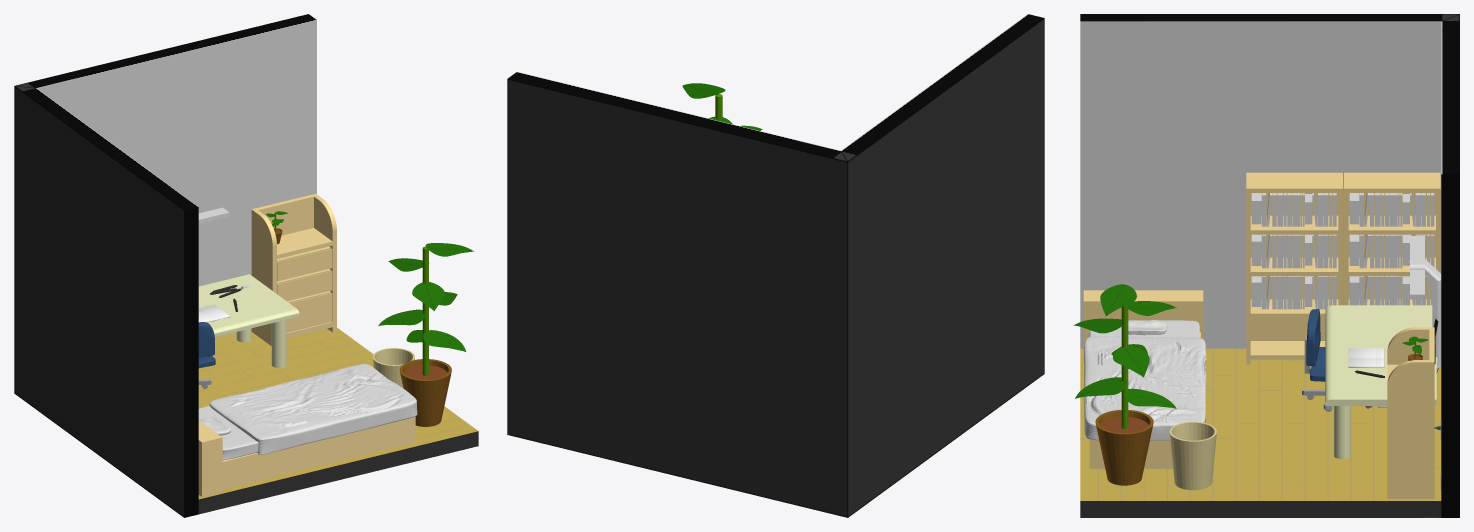
Rendered from room.glb.
3 views of the same model, side by side, from view 1: azimuth 30°, elevation 25°; view 2: azimuth 150°, elevation 25°; view 3: azimuth 270°, elevation 25° (orthographic). The views are drawn at different scales.
Parts seen in each view (by area): view 1: Wall, Cloth, Drawer, Base, Desk, Leafs, Plant cup, Head Table, Mat, Trush Bin, back; view 2: Wall, Leafs; view 3: Wall, Shelf.001, Cloth, Desk, Drawer, Shelf, Leafs, Plant cup, Trush Bin, Head Table, Base, Stract.005 (+5 smaller).
Part boxes in pixels (x1,y1,x2,y2): Wall: (14, 14, 478, 517); Cloth: (209, 364, 417, 454); Drawer: (251, 193, 336, 345); Base: (222, 416, 415, 489); Desk: (198, 274, 299, 367); Leafs: (378, 243, 473, 375); Plant cup: (399, 359, 451, 426); Head Table: (198, 420, 222, 496); Mat: (198, 406, 258, 460); Trush Bin: (372, 348, 414, 387); back: (198, 322, 214, 358); Wall: (507, 14, 1044, 517); Leafs: (682, 83, 762, 130); Wall: (1080, 14, 1459, 517); Shelf.001: (1246, 172, 1342, 364); Cloth: (1084, 336, 1206, 440); Desk: (1325, 305, 1436, 458); Drawer: (1387, 327, 1434, 498); Shelf: (1344, 172, 1440, 305); Leafs: (1073, 284, 1176, 428); Plant cup: (1095, 410, 1153, 485); Trush Bin: (1169, 421, 1216, 490); Head Table: (1083, 290, 1203, 361); Base: (1089, 332, 1200, 468); Stract.005: (1410, 259, 1441, 368).
Bounding box in the file's own units: 10.51 × 10.24 × 10.45.
Materials: 27 (6 with a texture image).
